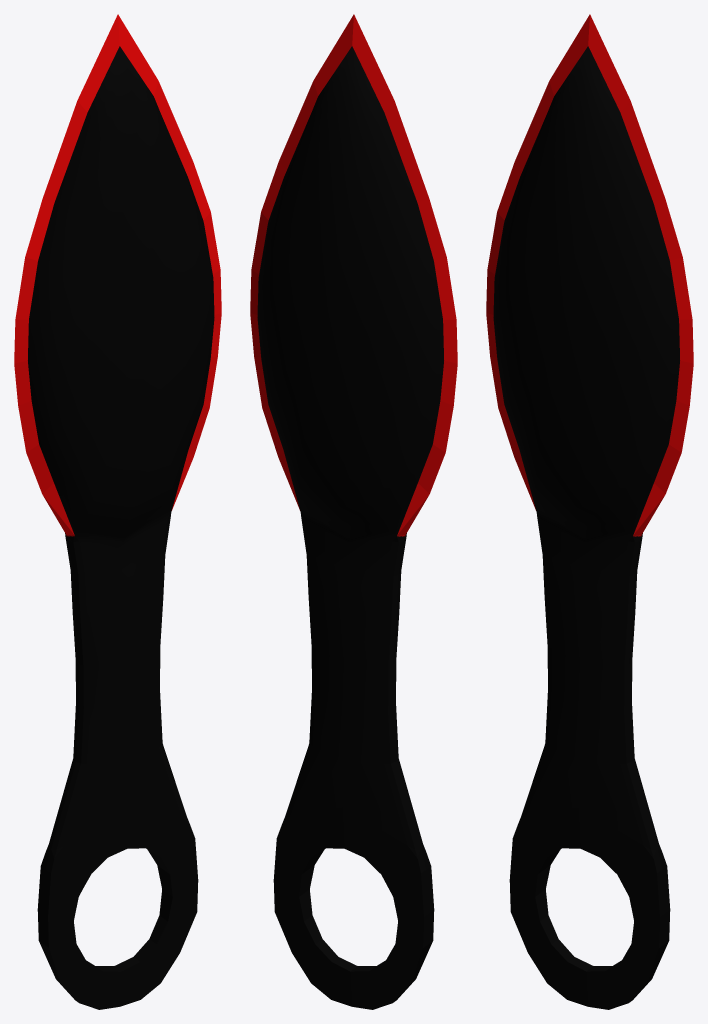
The model's file is Kunai_mk2.fbx.
3 renders of one model, left to right at view 1: azimuth 30°, elevation 25°; view 2: azimuth 150°, elevation 25°; view 3: azimuth 330°, elevation 25°, orthographic.
Parts seen in each view (by area): view 1: Cube, Cube.001; view 2: Cube, Cube.001; view 3: Cube, Cube.001.
Boxes of the visible parts, x1=… form: Cube: x1=28, y1=46, x2=214, y2=1009; Cube.001: x1=14, y1=14, x2=221, y2=535; Cube: x1=257, y1=46, x2=443, y2=1009; Cube.001: x1=250, y1=14, x2=457, y2=535; Cube: x1=493, y1=46, x2=679, y2=1009; Cube.001: x1=486, y1=14, x2=693, y2=535.
Size of the model in its own units: 103 by 469 by 44.48.
2 materials, 2 textured.
